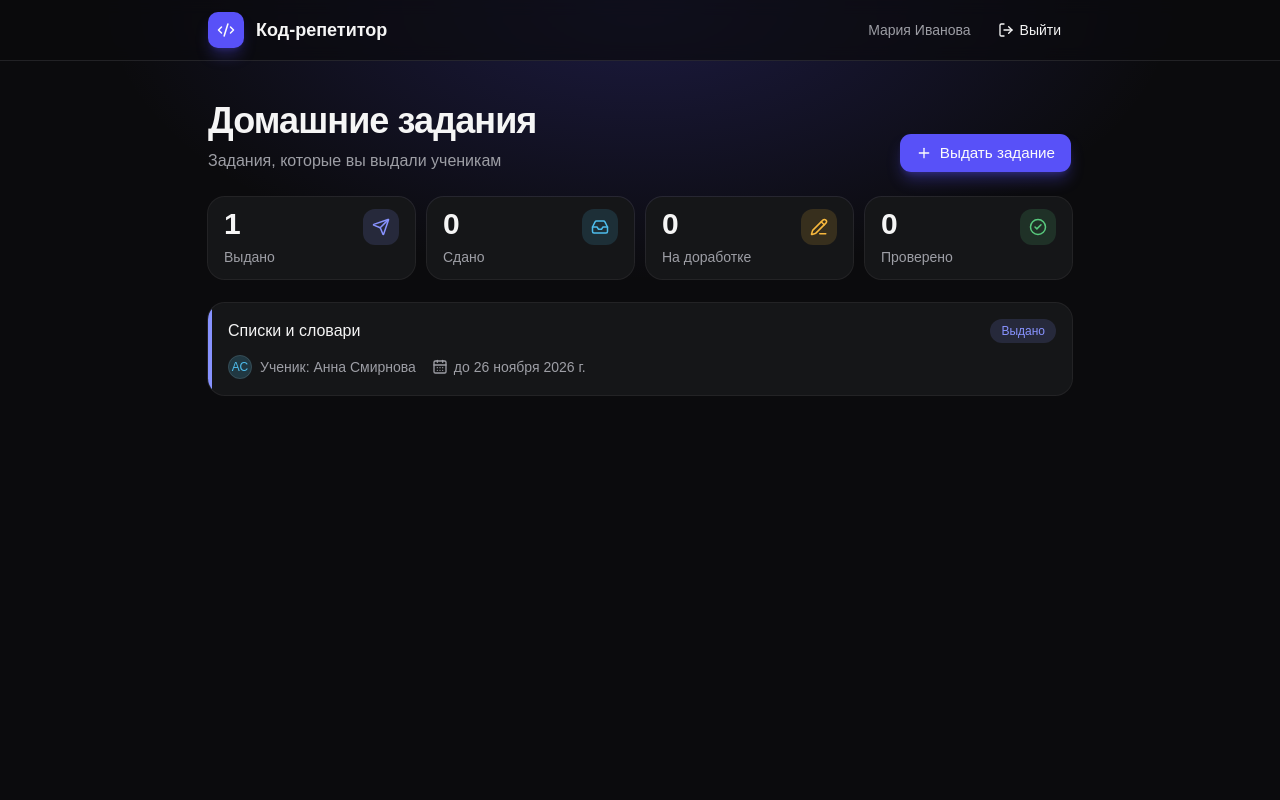
Scenario: Основной сценарий: репетитор выдаёт домашнее задание › кнопка «Выйти» возвращает на экран входа
Click the button "Выйти" at (1029, 30), box [986,14,1072,46]
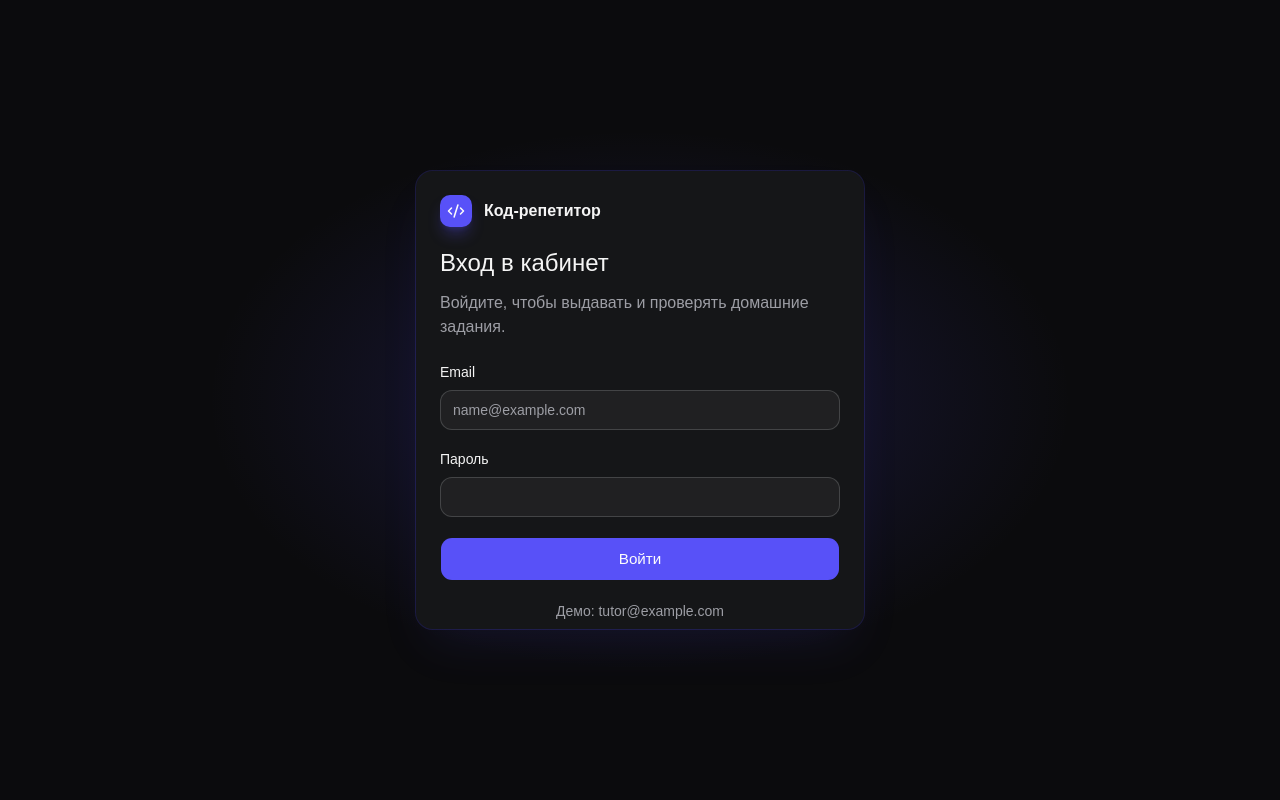
Expected: the heading "Вход в кабинет" is shown, [440,249,609,276]
